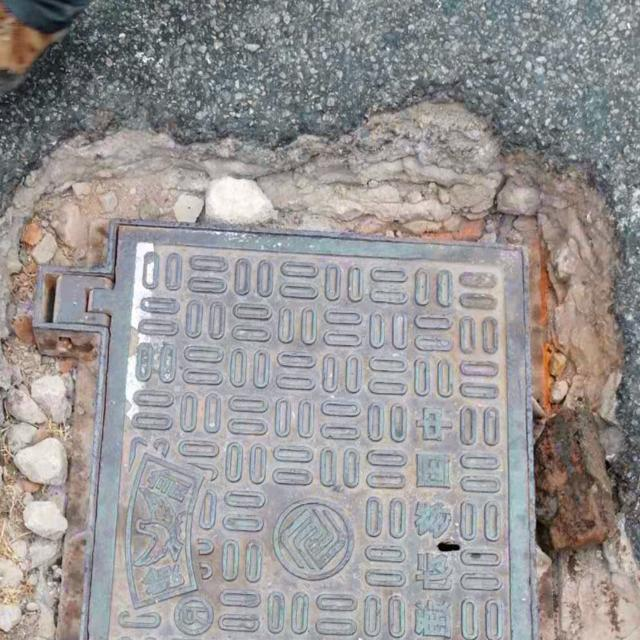circle: (0, 164, 613, 640)
